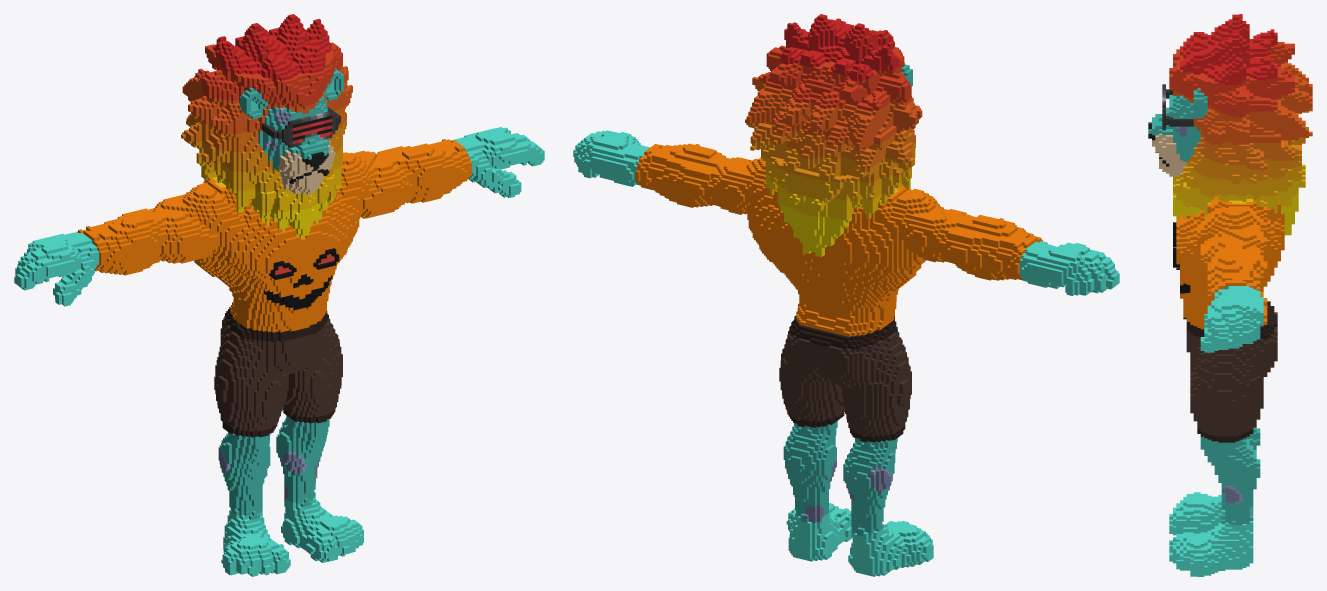
File: 696-DMXtTDaj.glb
3 views of the same model, side by side, from view 1: azimuth 30°, elevation 25°; view 2: azimuth 150°, elevation 25°; view 3: azimuth 270°, elevation 25° (orthographic). The views are drawn at different scales.
Parts seen in each view (by area): view 1: sad; view 2: sad; view 3: sad.
Boxes of the visible parts, <box> form: sad: <box>14,14,544,576</box>; sad: <box>573,14,1119,576</box>; sad: <box>1148,14,1312,576</box>.
Bounding box in the file's own units: 17.2 × 16.5 × 4.7.
Materials: 5 (5 with a texture image).
